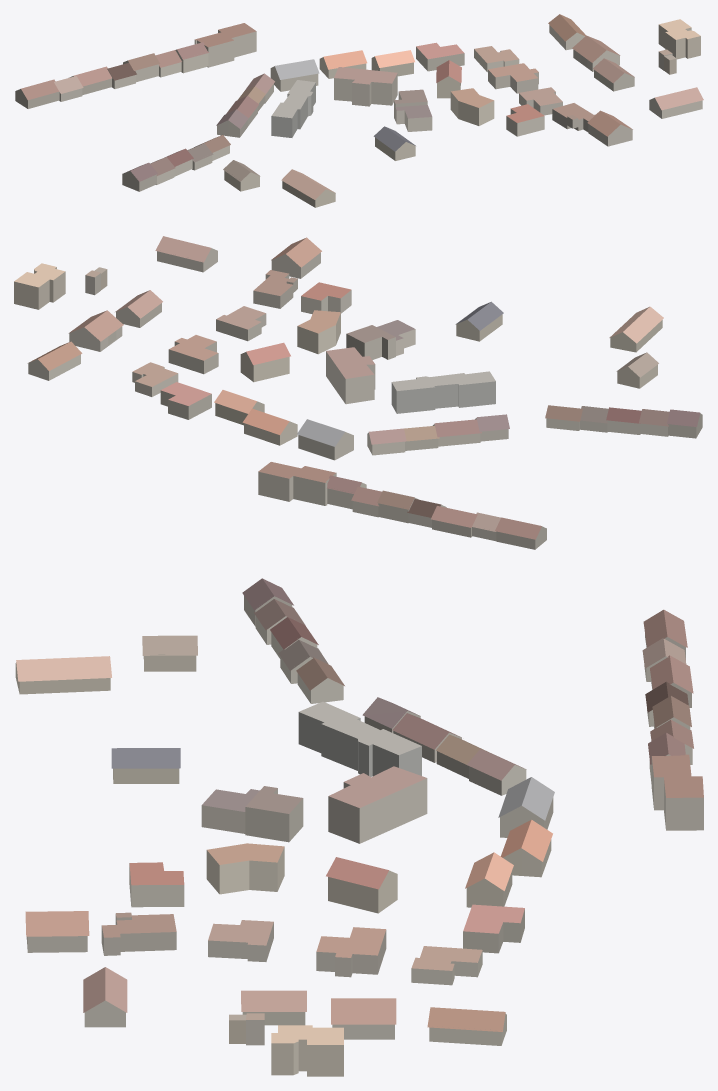
The picture shows the model from 3 angles, top to bottom: view 1: azimuth 30°, elevation 25°; view 2: azimuth 150°, elevation 25°; view 3: azimuth 270°, elevation 25°; orthographic projection. The views are drawn at different scales.
Parts seen in each view (by area): view 1: tuile; view 2: tuile; view 3: tuile.
Boxes of the visible parts, x1,y1,x2,y2 form: tuile: [15, 14, 703, 207]; tuile: [14, 236, 702, 549]; tuile: [15, 578, 703, 1076].
Bounding box in the file's own units: 243 × 18.33 × 155.
